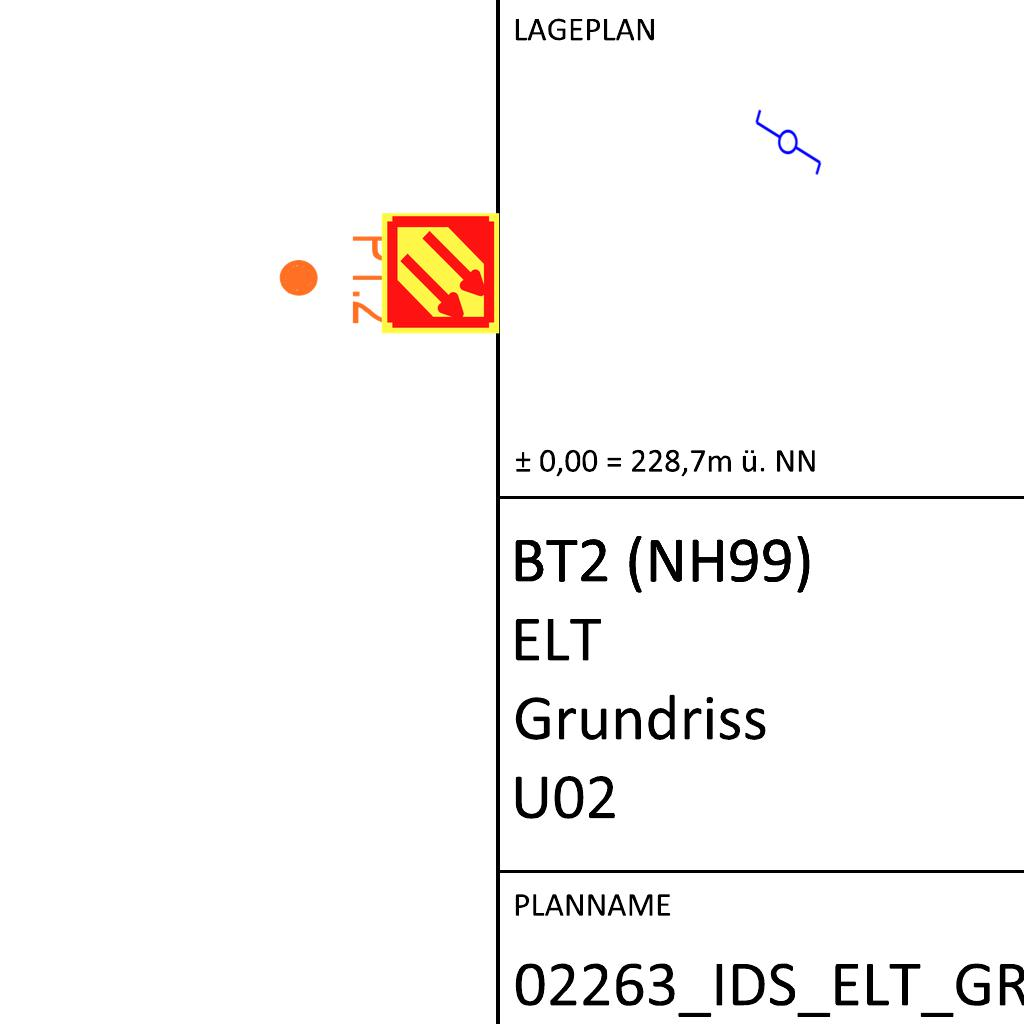ASR_Ansaugrauchmelder: (378, 211, 503, 336)
Downlight_LED_Einbauleuchten_Flur: (276, 233, 404, 326)
Wechselschalter: (753, 99, 825, 177)
